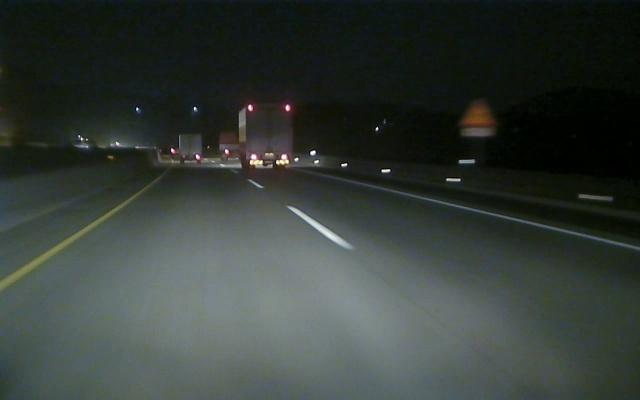lane: (339, 178, 637, 251), (1, 195, 135, 291), (251, 181, 355, 248)
